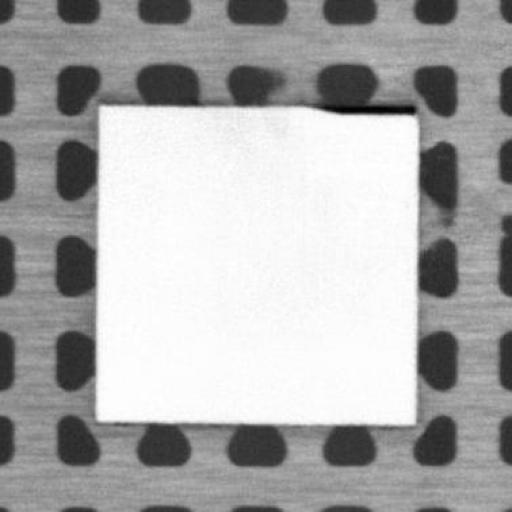DIE_BROKEN: (310, 98, 419, 114)
